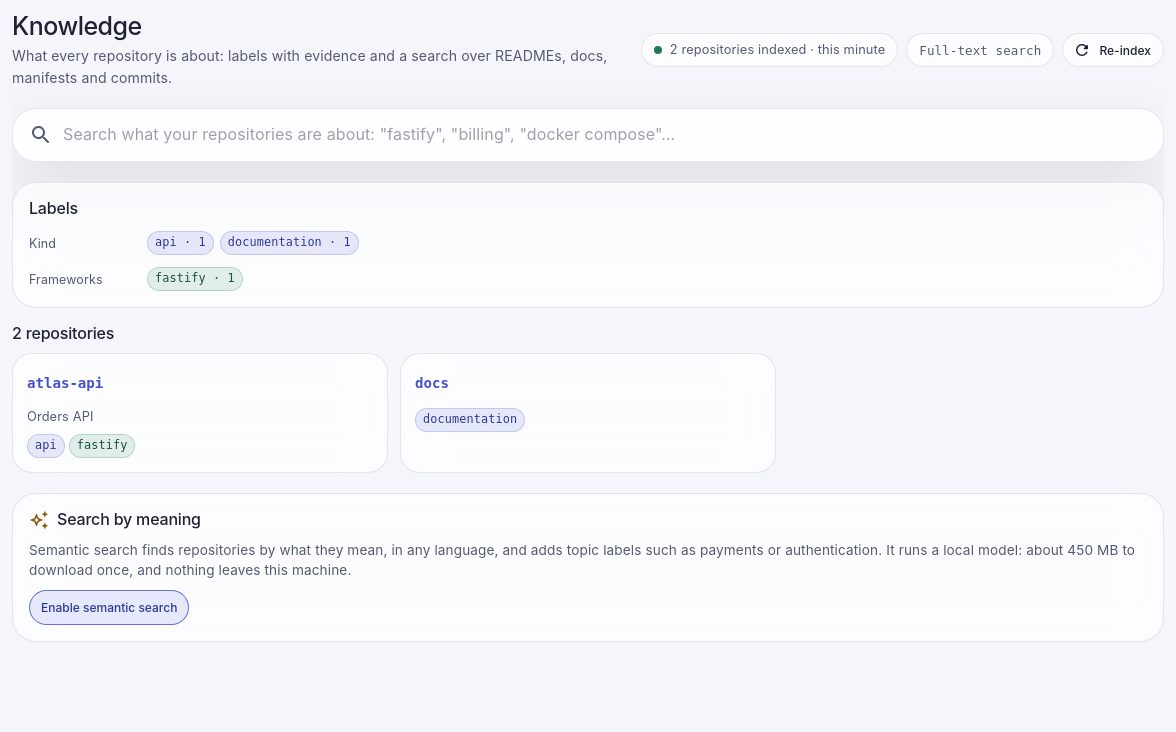
Test: KnowledgePage › shows labels by kind, filters repositories by a label and opens one
Expected: the text "2 repositories indexed · this minute" is shown, 641,33 -> 898,67
Expected: the text "Full-text search" is shown, 906,33 -> 1054,67
Click the button "fastify · 1".
click(195, 279)  # box 147,267 -> 243,291
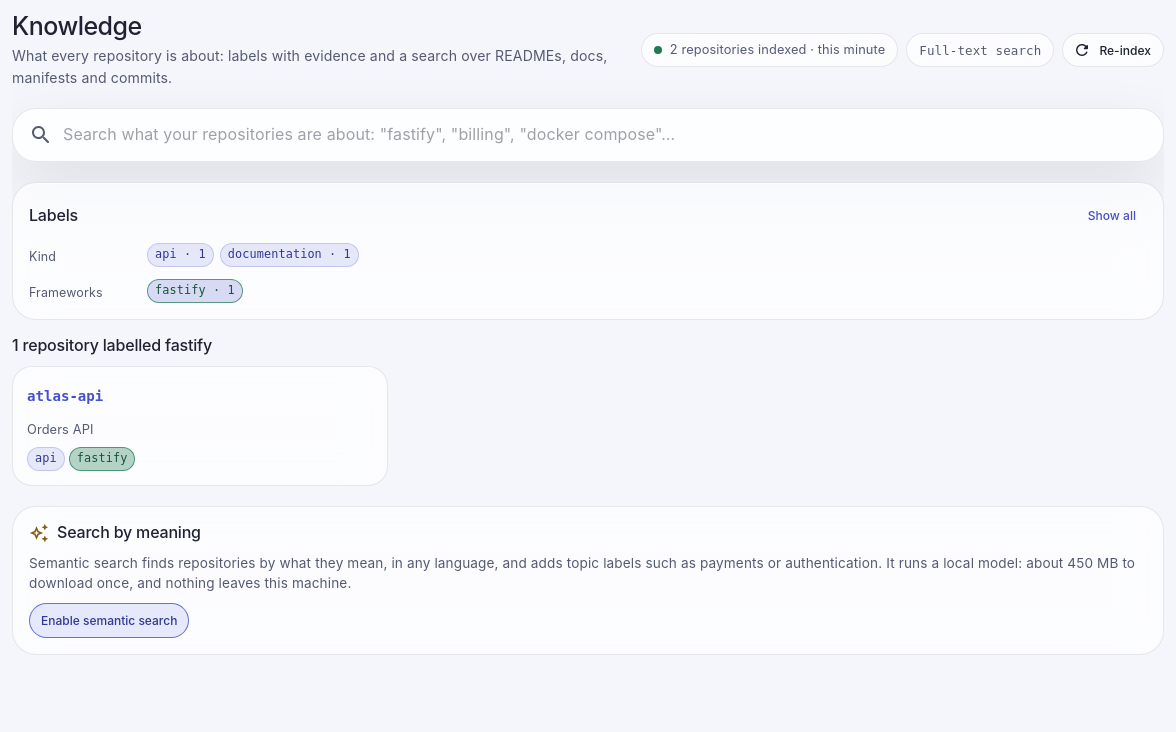
Expected: the heading "1 repository labelled fastify" is shown, 12,335 -> 212,355
Click the button with aria-label "Open atlas-api".
click(65, 397)  # box 27,381 -> 103,413
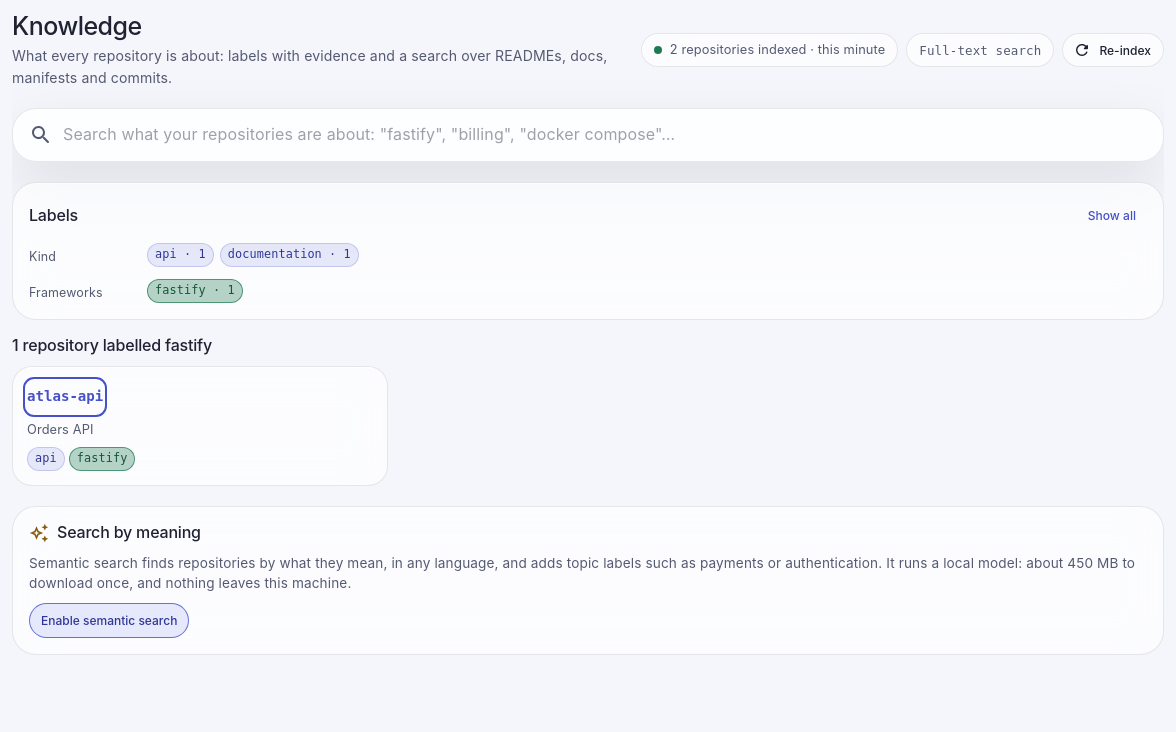
Click the button "Show all".
click(1112, 215)  # box 1077,199 -> 1147,231
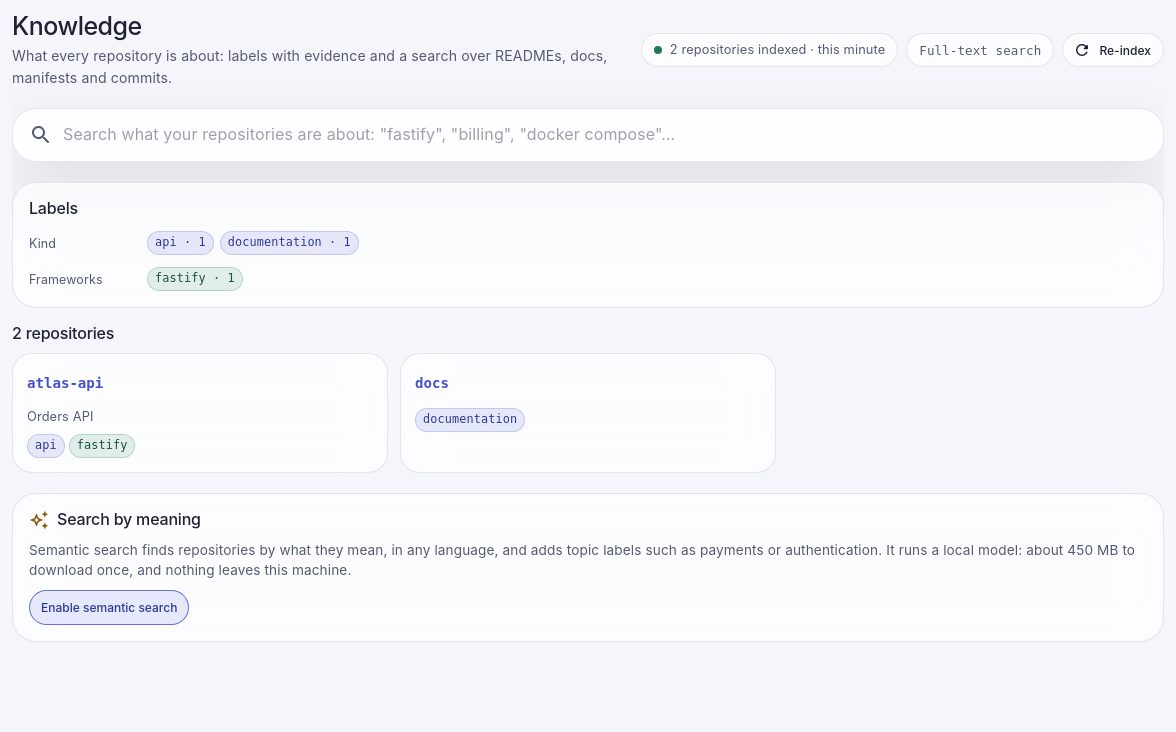
Expected: the heading "2 repositories" is shown, 12,323 -> 114,343
